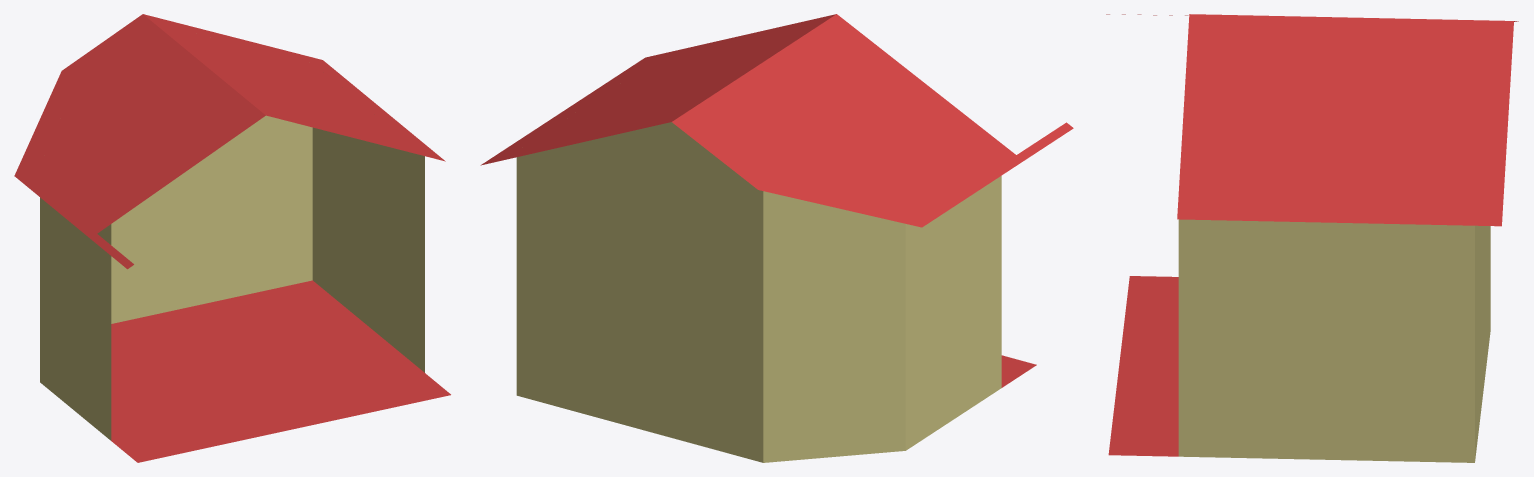
3 renders of one model, left to right at view 1: azimuth 30°, elevation 25°; view 2: azimuth 150°, elevation 25°; view 3: azimuth 270°, elevation 25°, orthographic. The views are drawn at different scales.
Size of the model in its own units: 13.27 by 11.03 by 10.26.
